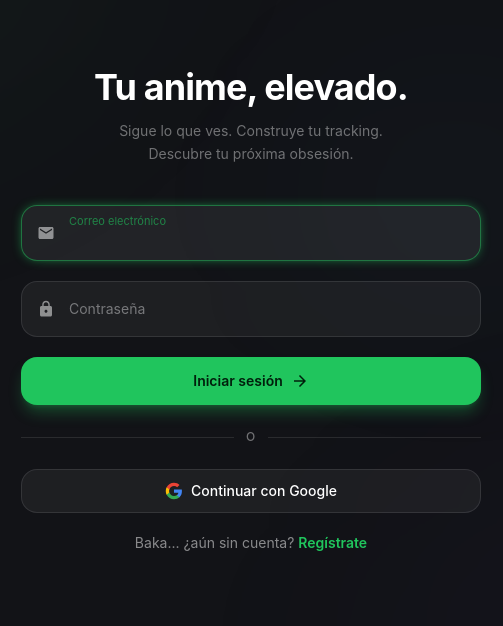
Test: AuthForm — signup toggle › switches to signup form when clicking Regístrate
This screenshot has width=503, height=626.
Click the button "Regístrate".
click(333, 543)  # box [298,533,367,553]
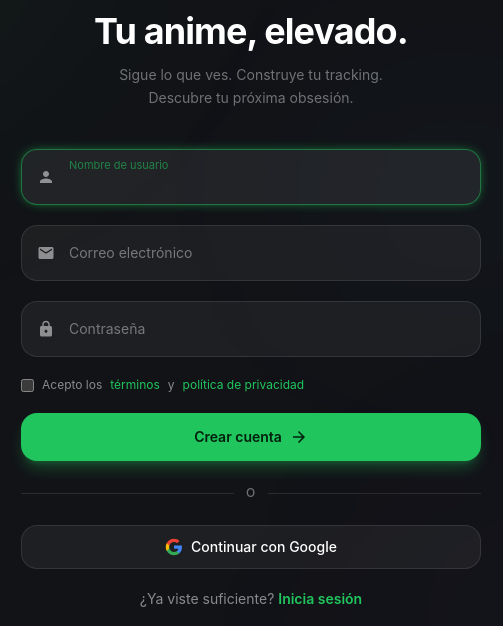
expect the field labelled "Nombre de usuario" is shown: met, box [21,149,481,205]
expect the button "Crear cuenta" is shown: met, box [21,413,481,461]
expect the button "Inicia sesión" is shown: met, box [278,589,362,609]
